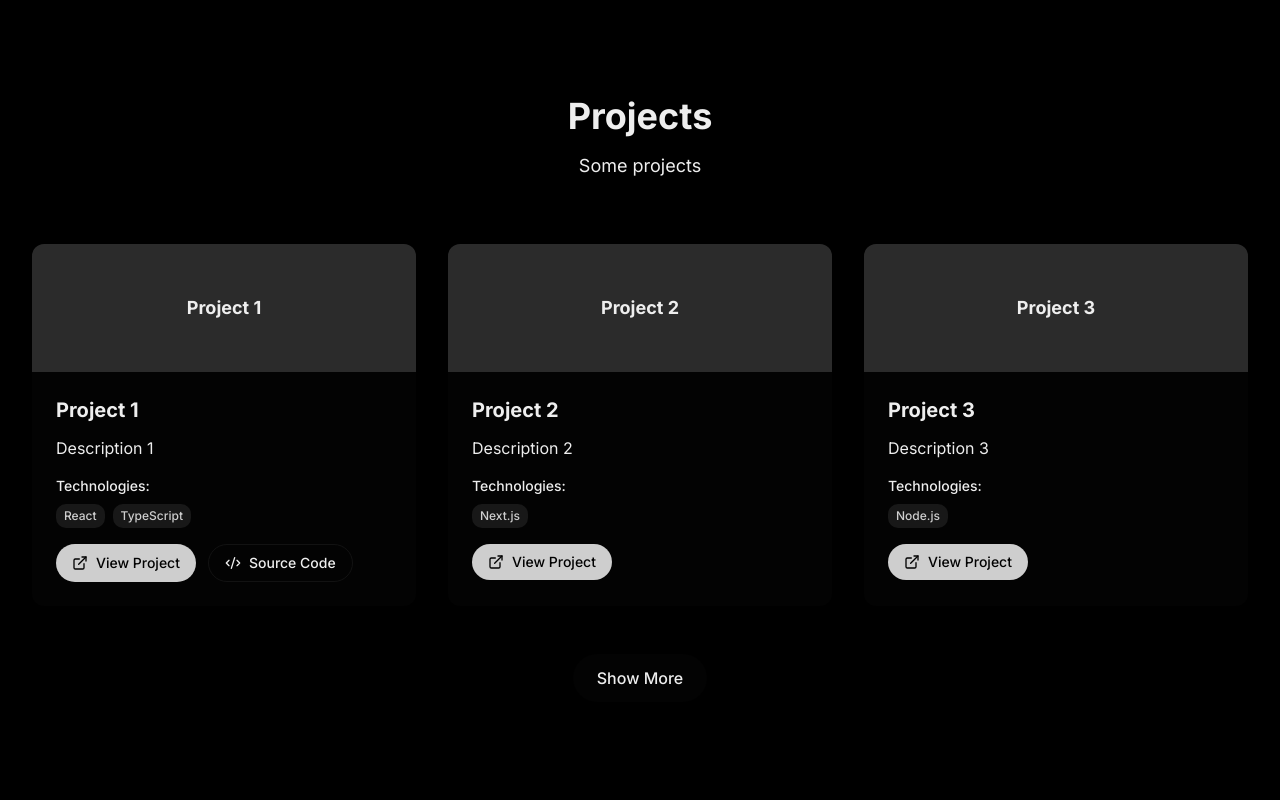
it: ProjectsSection › renders initial project cards and toggles show more/less
Expected: the heading "Projects" is shown, [568,94,712,138]
Expected: the text "View Project" next to "Source Code" is shown, [96,554,180,571]
Step 1. Click the button "Show More" → (640, 678), box [573,654,707,702]
(page scrolled)
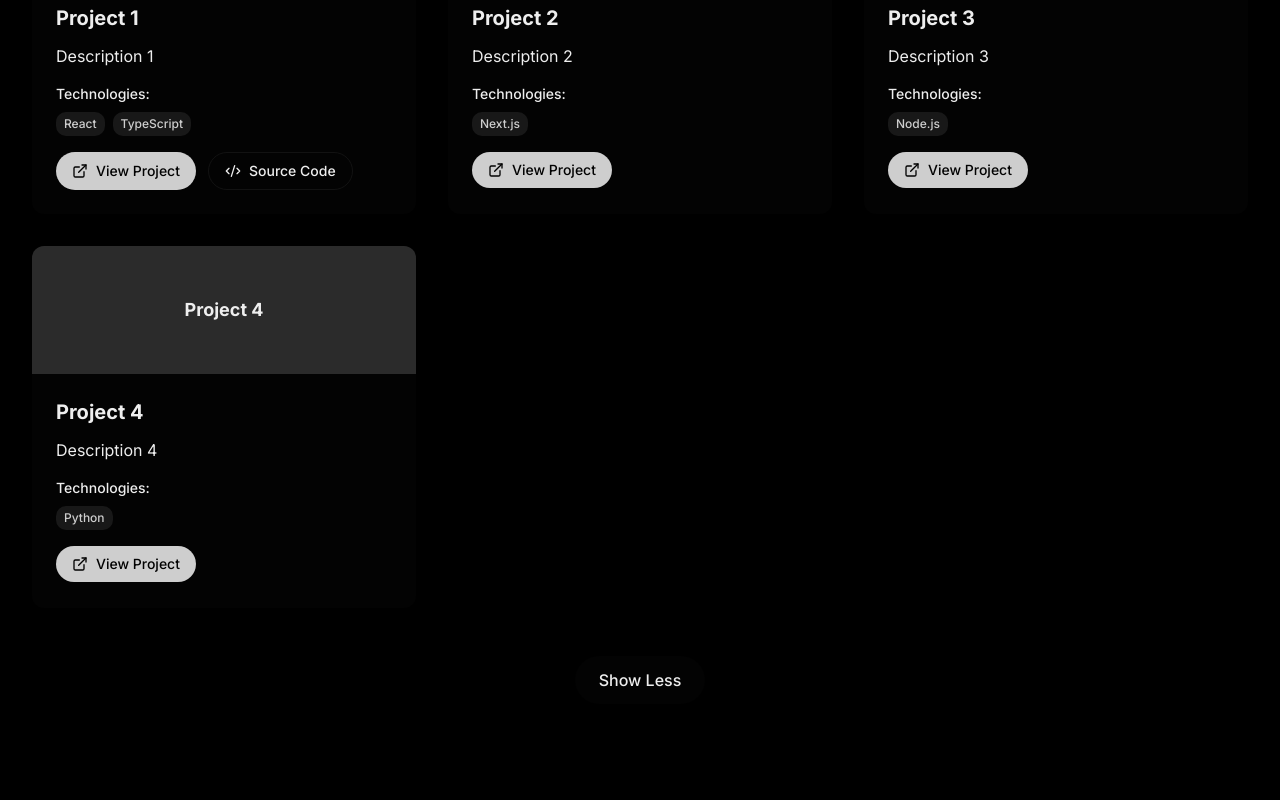
Expected: the button "Show Less" is shown, [575,656,705,704]
